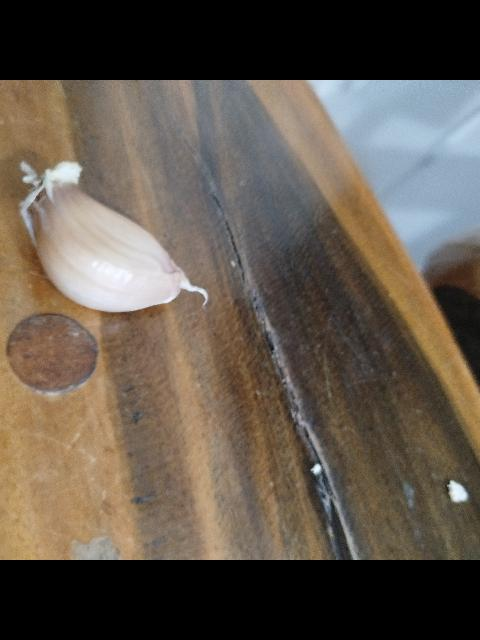garlic: (18, 160, 208, 312)
